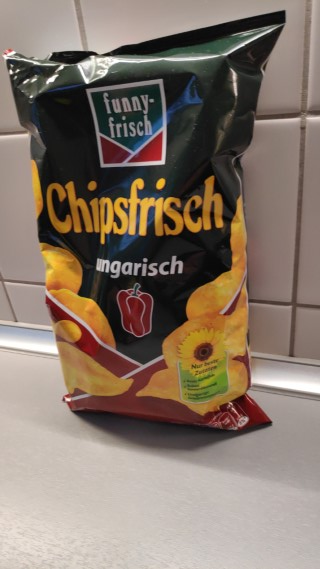chipsfrisch: (2, 7, 289, 434)
